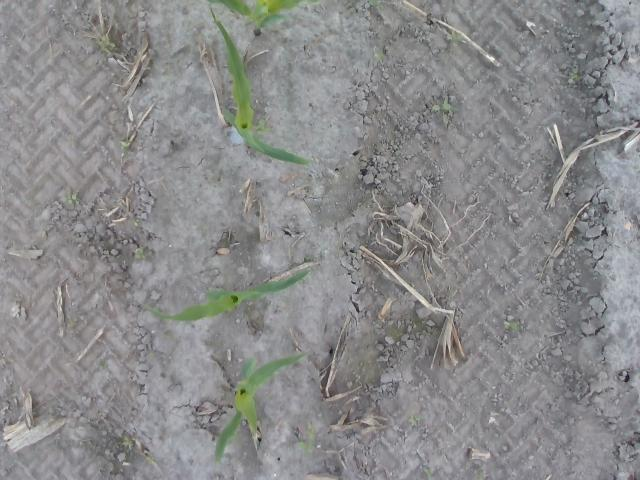Maize: (208, 2, 310, 165), (215, 350, 309, 462), (142, 269, 310, 324), (206, 0, 320, 38)
Weeds: (294, 424, 316, 450), (432, 100, 456, 114), (255, 118, 272, 134), (448, 30, 466, 42), (61, 194, 80, 205), (502, 320, 521, 331), (122, 436, 134, 451), (134, 247, 146, 260), (367, 0, 385, 8), (568, 70, 578, 84), (374, 50, 384, 63), (409, 414, 419, 425), (120, 142, 129, 152), (146, 456, 156, 464), (424, 468, 432, 478)
